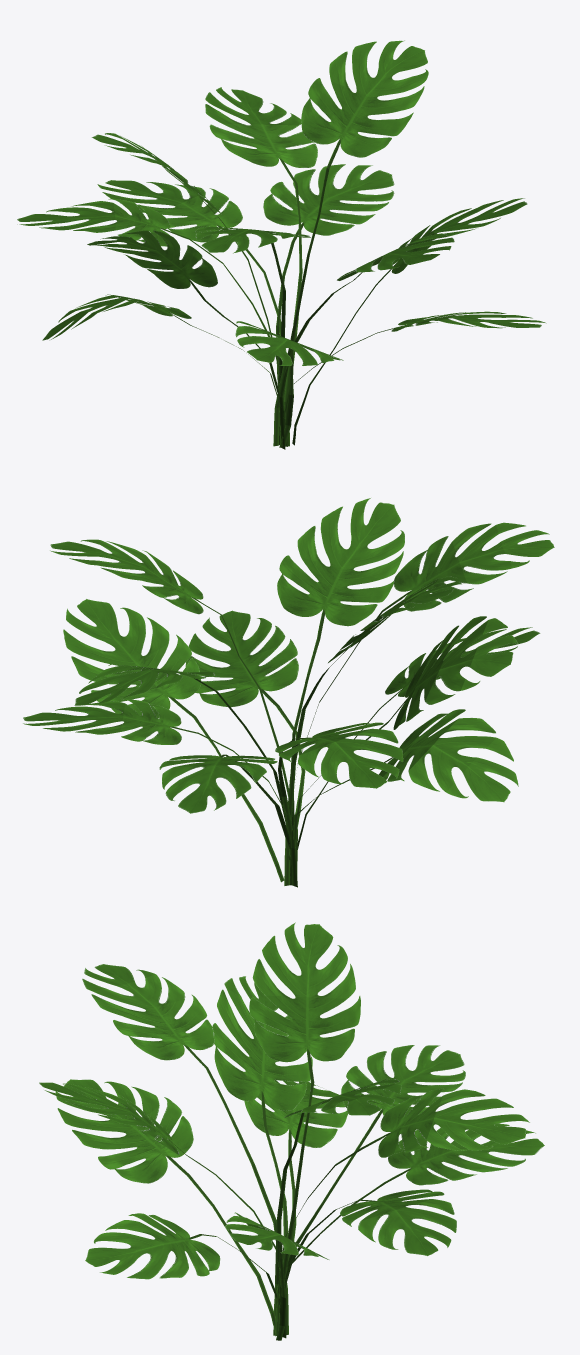
The model's file is Monstera2.fbx.
3 views of the same model, one above another, from view 1: azimuth 30°, elevation 25°; view 2: azimuth 150°, elevation 25°; view 3: azimuth 270°, elevation 25° (orthographic). The views are drawn at different scales.
Visible parts, largest first — view 1: MonsteraPlant2; view 2: MonsteraPlant2; view 3: MonsteraPlant2.
Boxes of the visible parts, left/top/right/bottom form: MonsteraPlant2: left=17, top=40, right=546, bottom=449; MonsteraPlant2: left=23, top=498, right=554, bottom=887; MonsteraPlant2: left=39, top=922, right=544, bottom=1340.
Size of the model in its own units: 201 by 135 by 201.
